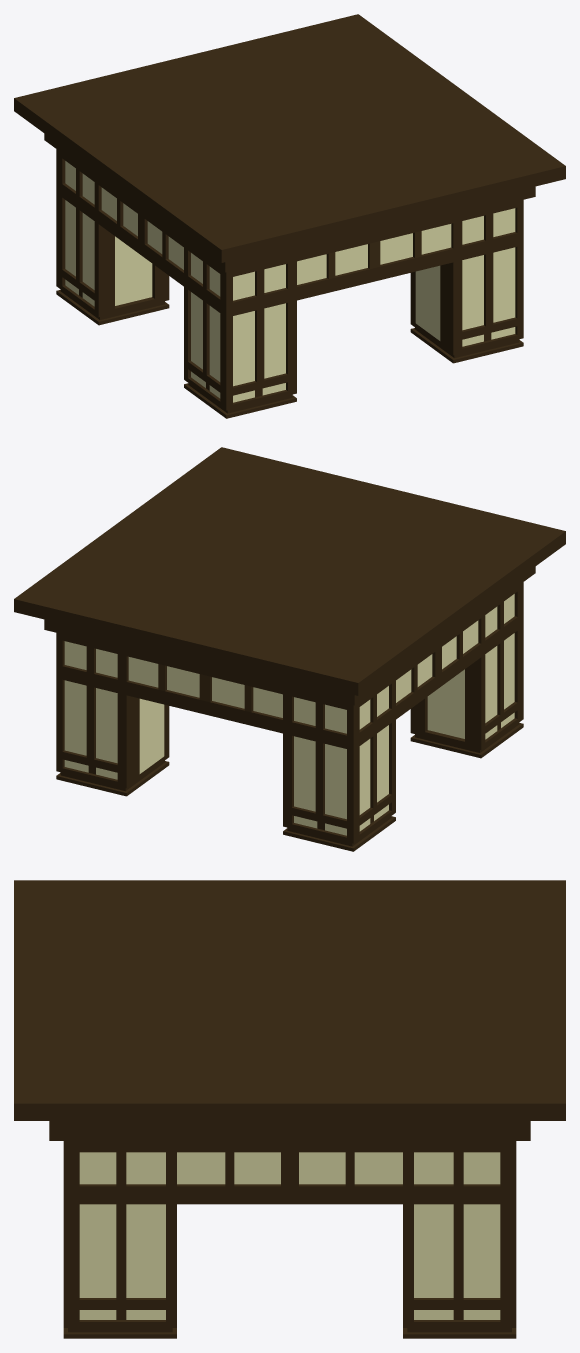
The model's file is SmallBuilding.fbx.
3 renders of one model, top to bottom at view 1: azimuth 30°, elevation 25°; view 2: azimuth 150°, elevation 25°; view 3: azimuth 270°, elevation 25°, orthographic. The views are drawn at different scales.
Parts seen in each view (by area): view 1: Small Building; view 2: Small Building; view 3: Small Building.
Boxes of the visible parts, x1,y1,x2,y2 form: Small Building: [14, 14, 565, 418]; Small Building: [14, 447, 565, 851]; Small Building: [14, 880, 565, 1338].
Size of the model in its own units: 1261 by 658 by 1316.
